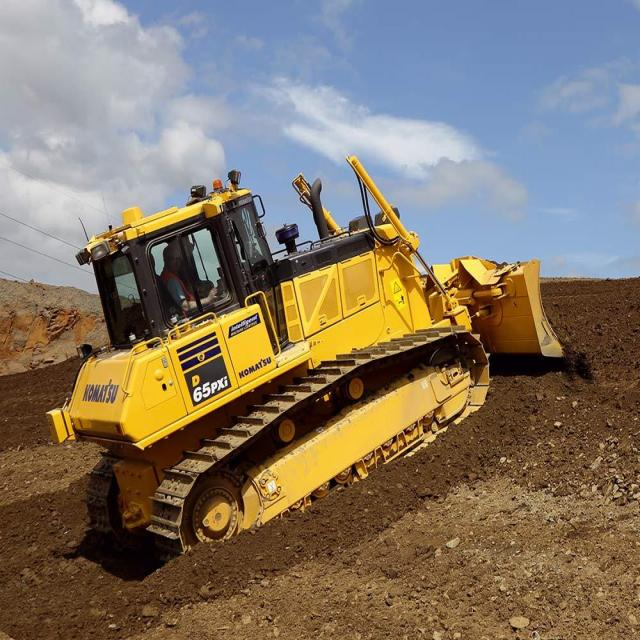Bulldozer: (53, 143, 593, 595)
